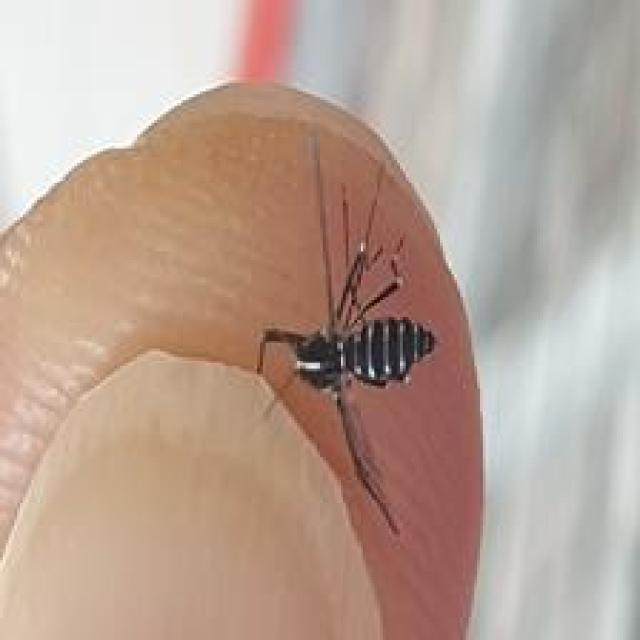Aedes albopictus: (254, 133, 437, 538)
